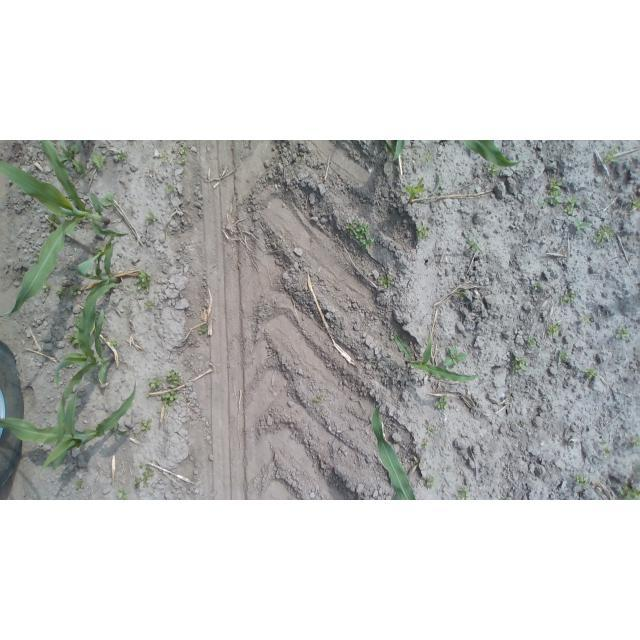Maize: (0, 140, 128, 319), (0, 377, 136, 475), (54, 283, 129, 388), (371, 402, 417, 500), (76, 238, 121, 335), (394, 332, 479, 382), (383, 141, 525, 168), (404, 176, 426, 205)
Weeds: (150, 370, 183, 409), (58, 144, 89, 175), (347, 219, 376, 249), (538, 177, 563, 207), (444, 345, 469, 368), (619, 480, 640, 501), (133, 469, 155, 489), (593, 224, 614, 244), (54, 285, 82, 300), (135, 268, 152, 292), (89, 149, 107, 169), (100, 192, 117, 211), (564, 194, 579, 215), (604, 146, 620, 165), (415, 220, 429, 241), (574, 220, 593, 235), (512, 356, 528, 373), (469, 235, 484, 253), (144, 210, 159, 225), (377, 274, 393, 288), (573, 472, 589, 486), (600, 440, 613, 457), (616, 327, 633, 340), (48, 214, 61, 231), (434, 395, 448, 410), (560, 292, 576, 305), (558, 349, 571, 365), (116, 485, 129, 500), (68, 333, 80, 349), (178, 143, 192, 156), (114, 149, 128, 162), (455, 487, 469, 500), (487, 164, 502, 176), (29, 253, 40, 268), (421, 151, 433, 164), (548, 324, 560, 337), (585, 366, 598, 378), (628, 435, 640, 447), (140, 418, 152, 430), (426, 475, 438, 487), (197, 325, 208, 336), (74, 479, 85, 490), (144, 300, 155, 311), (160, 152, 169, 165), (164, 182, 174, 193), (421, 439, 432, 449), (456, 289, 468, 298), (140, 460, 153, 468), (42, 283, 52, 293), (581, 315, 592, 324), (528, 337, 537, 348), (92, 245, 104, 253), (314, 394, 323, 403), (177, 156, 187, 164), (428, 427, 436, 437), (124, 282, 133, 290), (73, 316, 80, 326), (633, 199, 640, 209), (534, 282, 541, 291), (498, 496, 512, 500), (110, 340, 118, 347), (397, 191, 404, 197), (104, 337, 109, 342), (83, 140, 89, 144), (134, 433, 139, 437)
